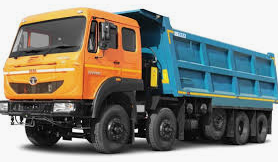truck: (1, 5, 278, 158)
